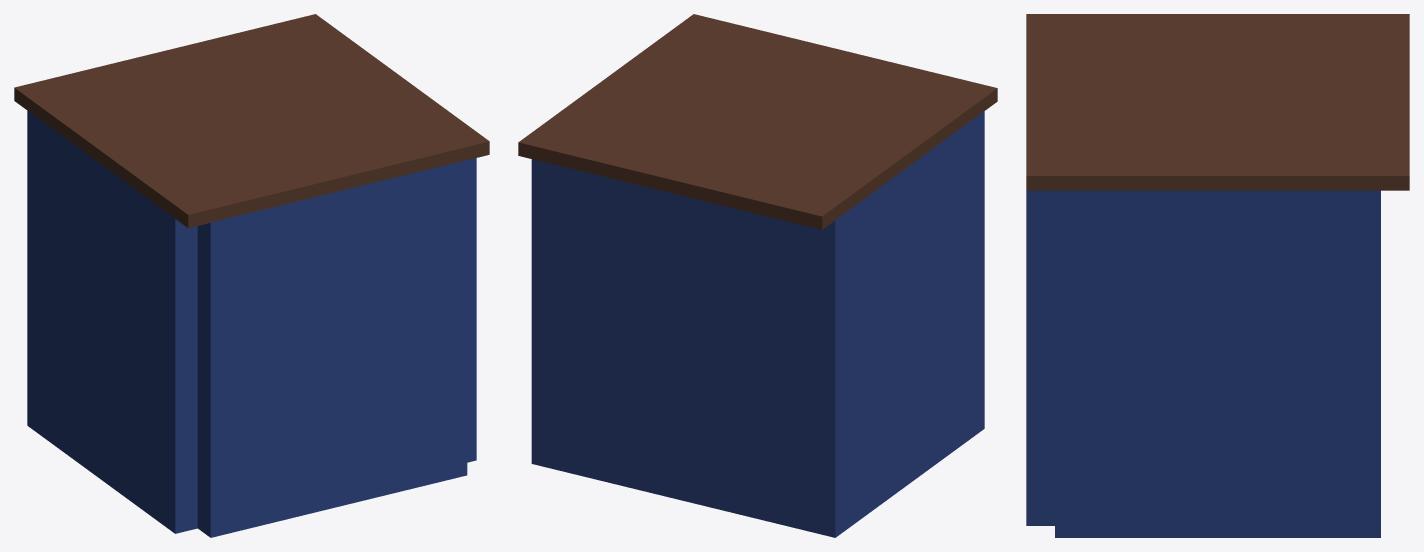
Rendered from Connect_3.fbx.
The picture shows the model from 3 angles, left to right: view 1: azimuth 30°, elevation 25°; view 2: azimuth 150°, elevation 25°; view 3: azimuth 270°, elevation 25°; orthographic projection. The views are drawn at different scales.
Visible parts, largest first — view 1: Cube_5, Cube_4; view 2: Cube_5, Cube_4; view 3: Cube_5, Cube_4.
Part boxes in pixels (left/top/right/bottom): Cube_5: left=27, top=110, right=476, bottom=537; Cube_4: left=14, top=14, right=489, bottom=228; Cube_5: left=531, top=111, right=984, bottom=537; Cube_4: left=518, top=14, right=997, bottom=229; Cube_5: left=1026, top=190, right=1380, bottom=537; Cube_4: left=1026, top=14, right=1409, bottom=190.
Size of the model in its own units: 200 by 208 by 200.
